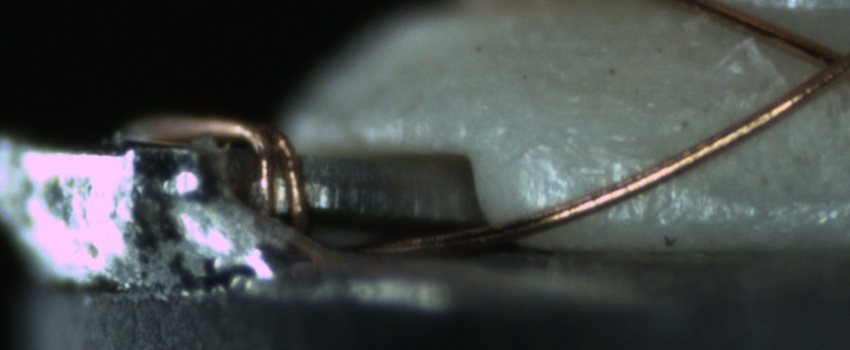CL: (793, 31, 849, 95)
DL: (522, 130, 666, 173)
TE: (116, 110, 341, 245)
